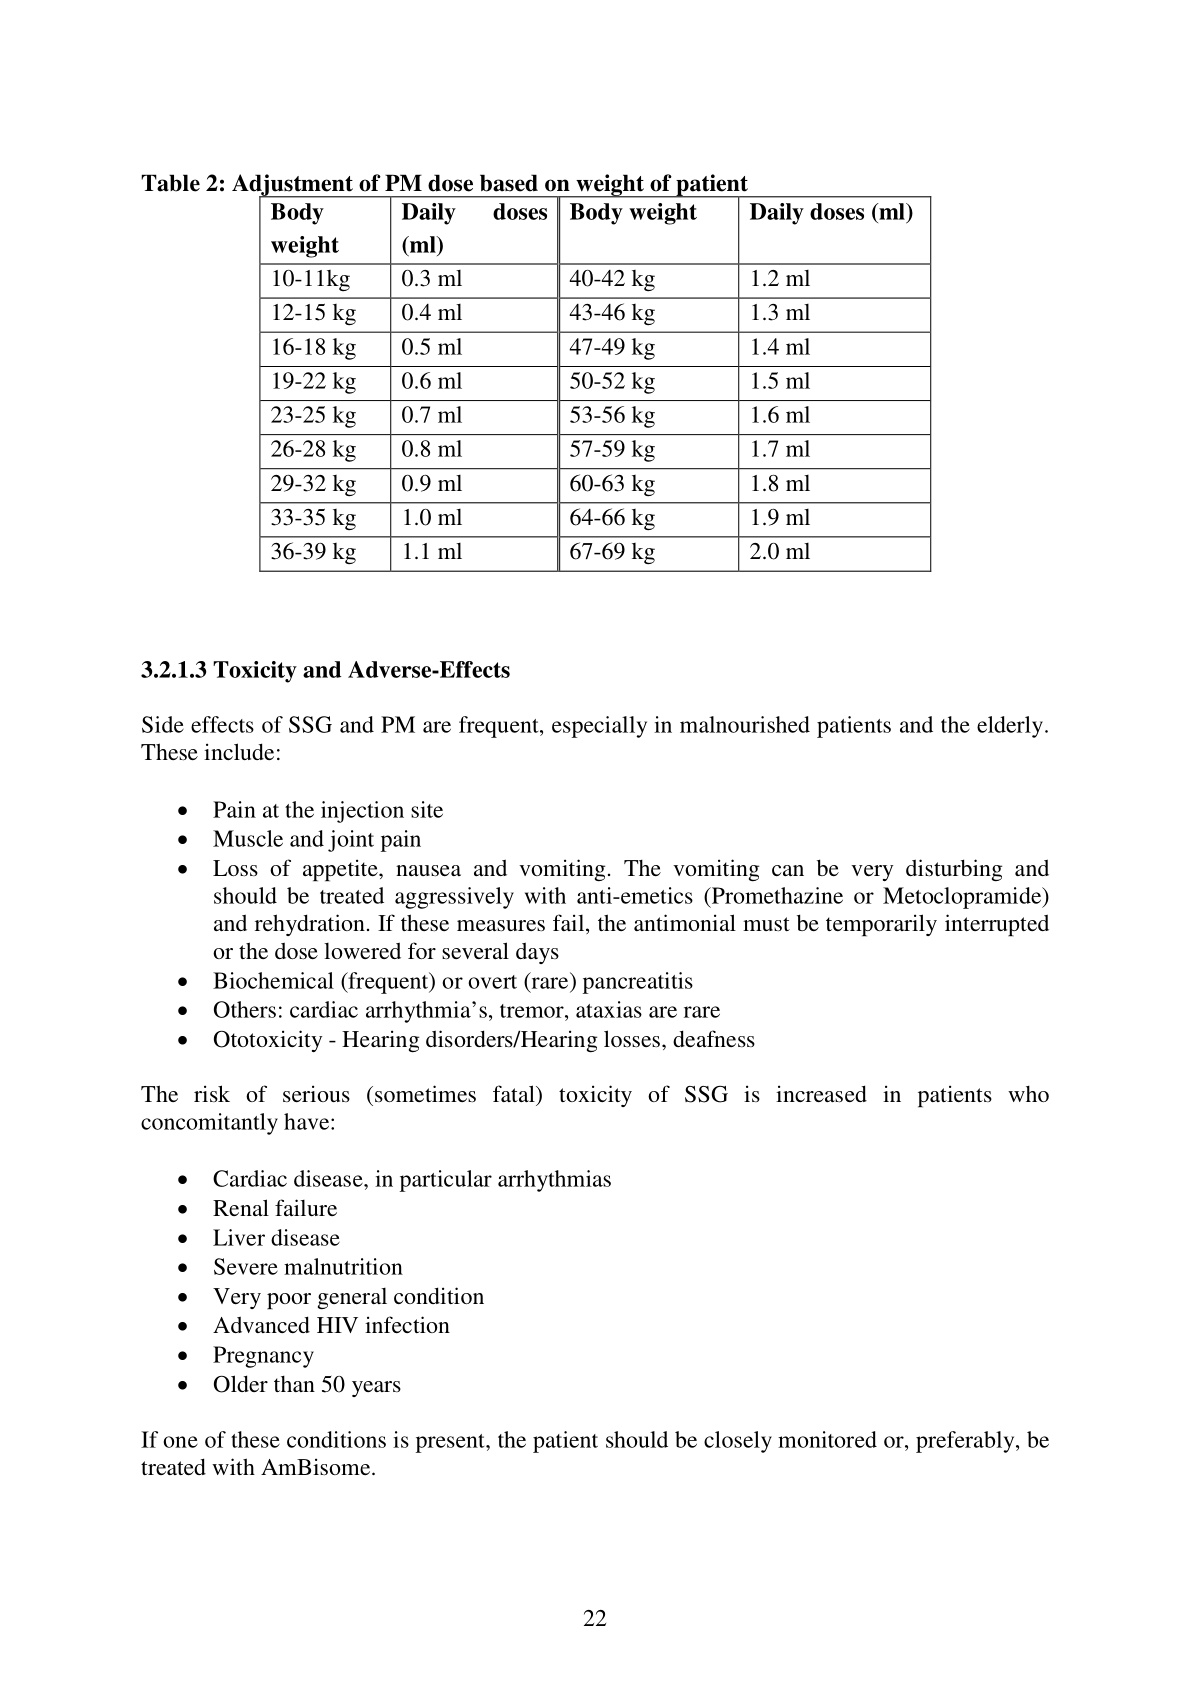full_lined: (258, 195, 932, 573)
